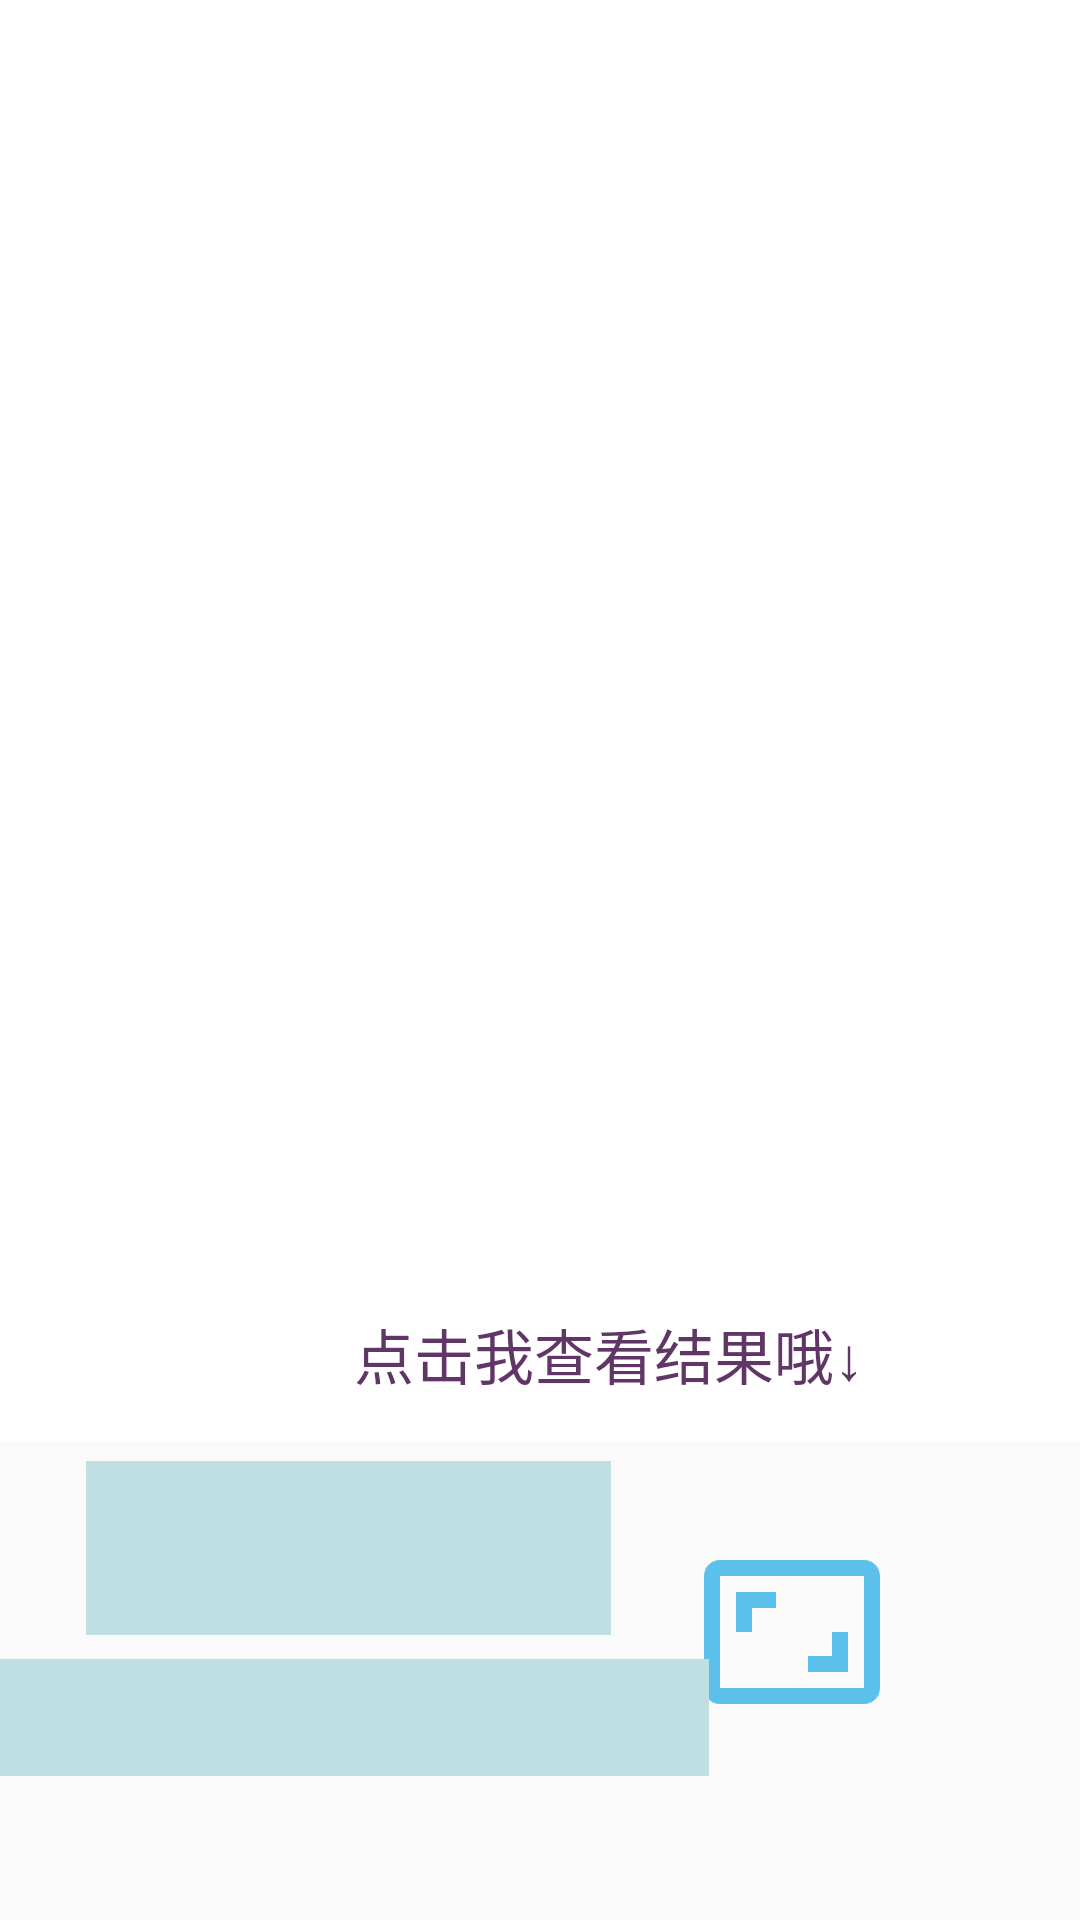

Point at icon controls on the screen. Image size 1080×1920, points as (x,y).
recognition: (788,1644)
